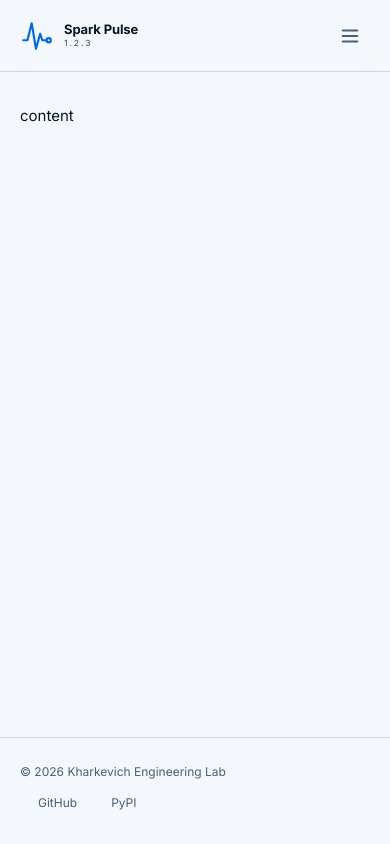
Test: the mobile menu › is shut until the menu button is pressed, and says so
Click the button named "Menu" at (350, 36), box [330, 16, 370, 56]
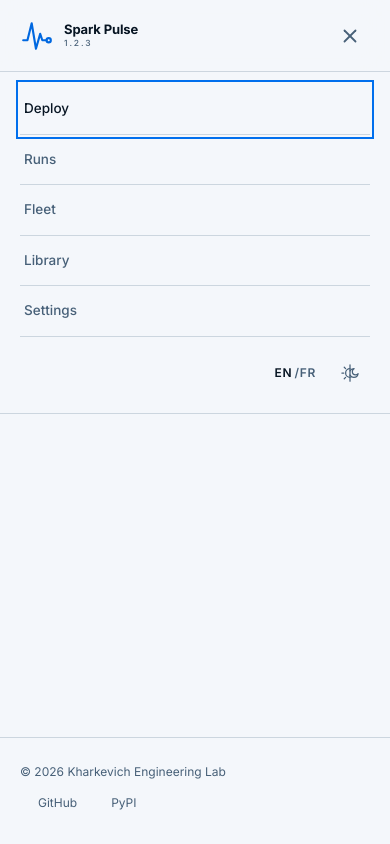
Result: the button named "Menu" is expanded at [330, 16, 370, 56]
Result: the navigation bar with test id "mobile-nav" is shown at [20, 84, 370, 337]
